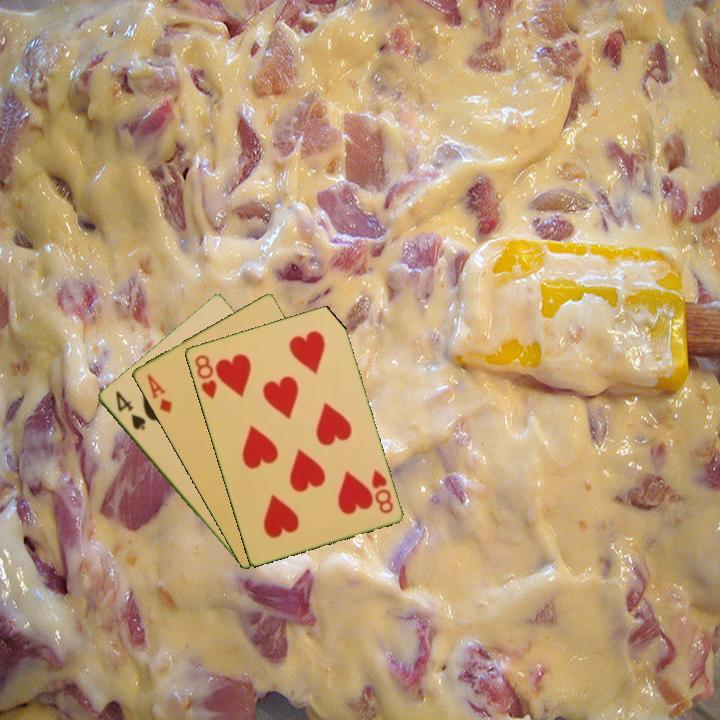4s: (111, 387, 148, 433)
8h: (367, 466, 396, 516), (191, 351, 219, 402)
Ad: (143, 370, 174, 416)
